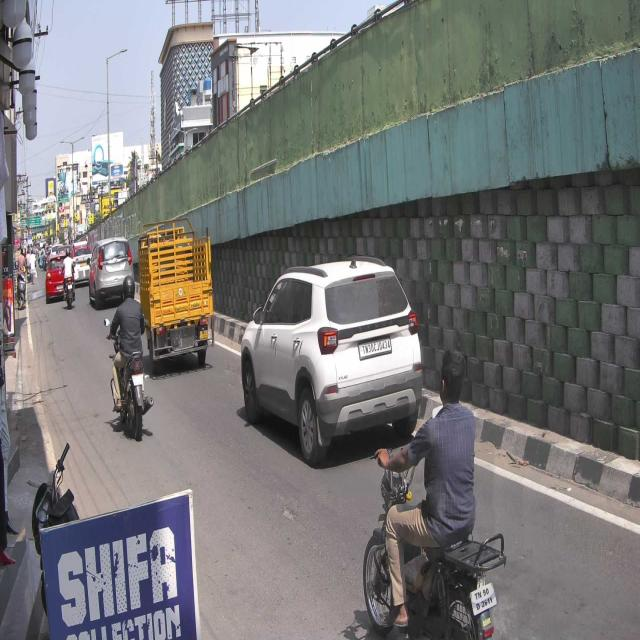single_rider: (362, 346, 507, 640), (103, 274, 155, 438)
